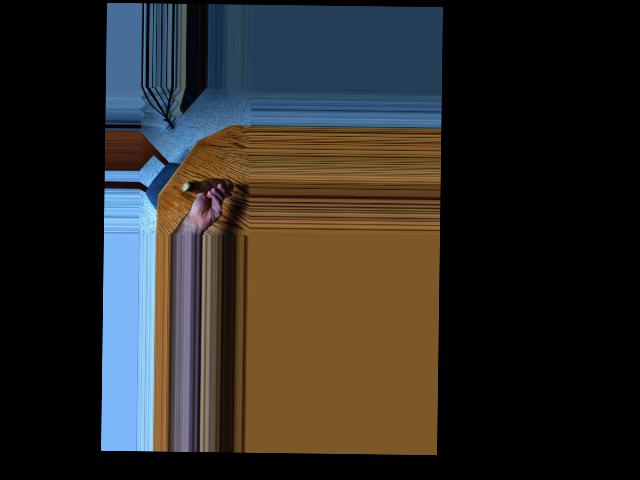sweet_potato: (180, 177, 231, 198)
